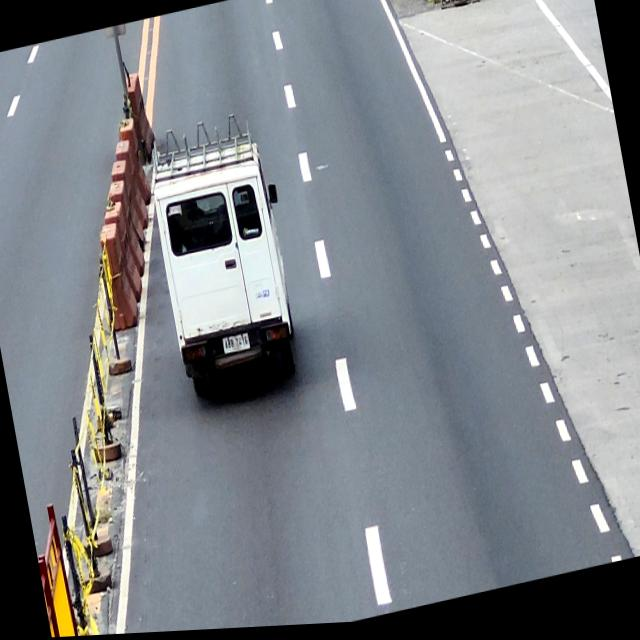Car: (143, 124, 311, 409)
License-Plate: (221, 334, 250, 357)
